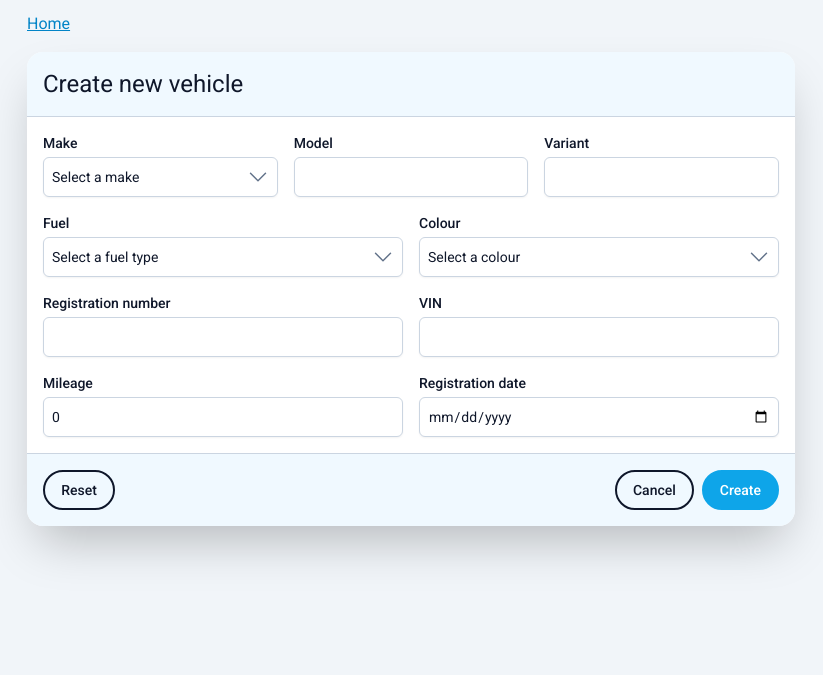
validates the form
# Submit the form
Click the button "Create" at {"x": 740, "y": 490}, box [702,470,779,510]
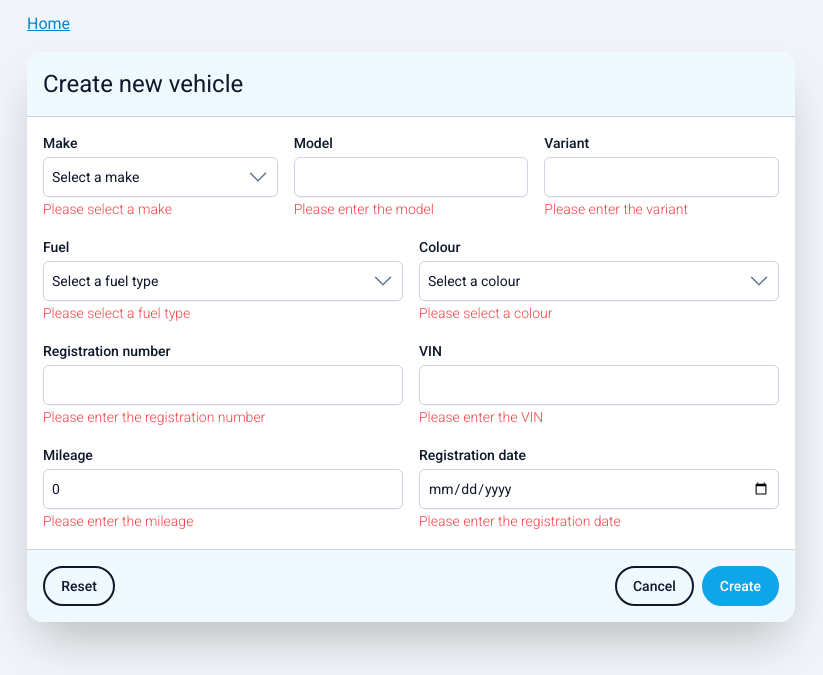
expect the text "Please select a make" is shown: met, box [43,201,172,217]
expect the text "Please enter the model" is shown: met, box [294,201,434,217]
expect the text "Please enter the variant" is shown: met, box [544,201,688,217]
